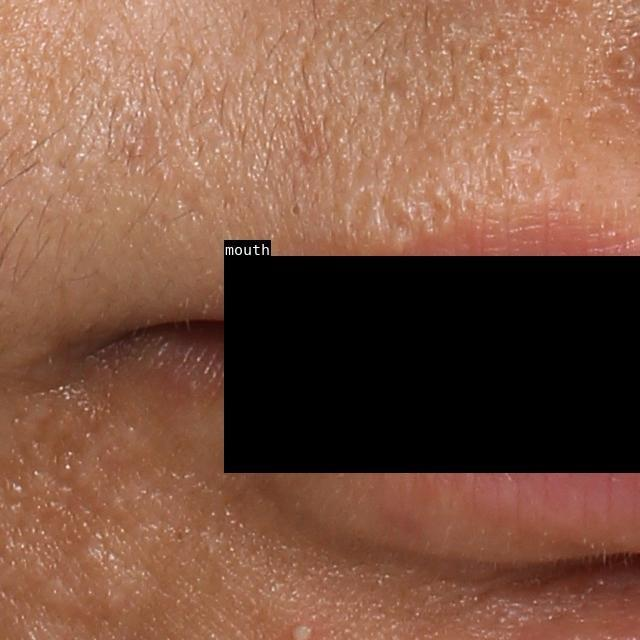atrophic_scar: (513, 156, 552, 207), (519, 91, 564, 129), (343, 186, 376, 236)
comedo: (288, 196, 306, 224)
